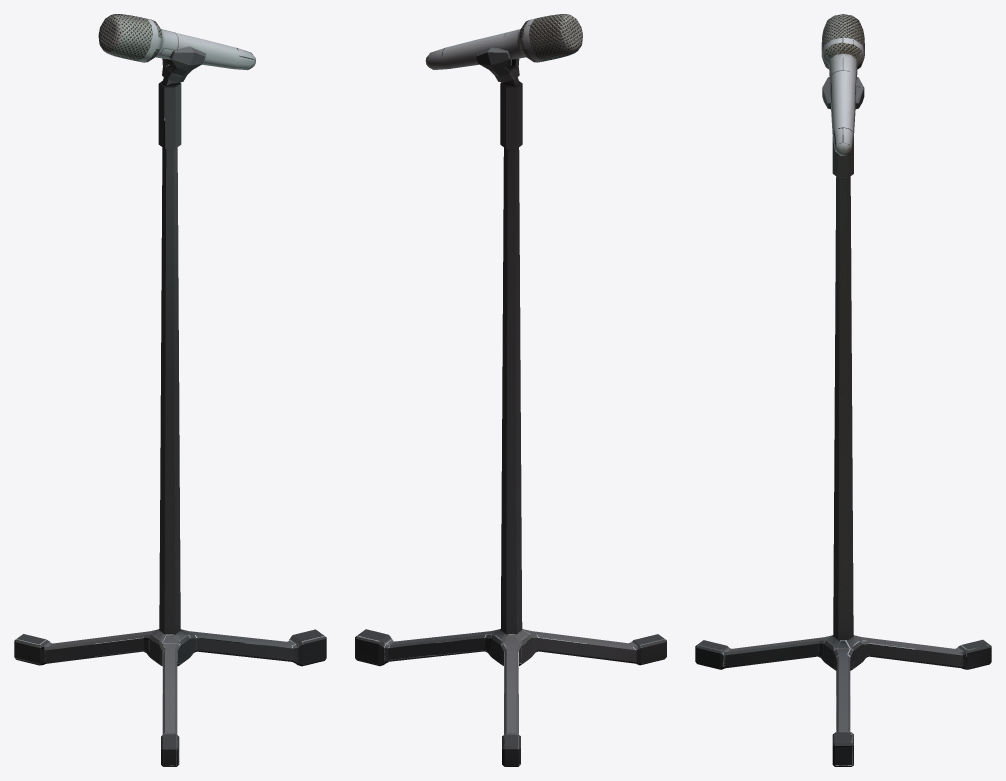
File: microphone.glb
3 views of the same model, side by side, from view 1: azimuth 30°, elevation 25°; view 2: azimuth 150°, elevation 25°; view 3: azimuth 270°, elevation 25° (orthographic). The views are drawn at different scales.
Visible parts, largest first — view 1: Microphone.Mesh; view 2: Microphone.Mesh; view 3: Microphone.Mesh.
Boxes of the visible parts, left/top/right/bottom form: Microphone.Mesh: left=14, top=14, right=326, bottom=766; Microphone.Mesh: left=355, top=14, right=666, bottom=766; Microphone.Mesh: left=695, top=14, right=991, bottom=766.
Size of the model in its own units: 0.6903 by 1.95 by 0.7943.
Materials: 1 (1 with a texture image).
